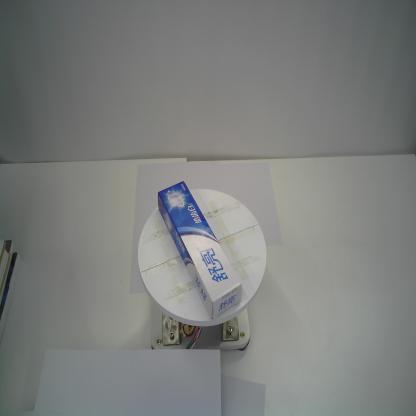Personal Hygiene: (157, 180, 242, 321)
